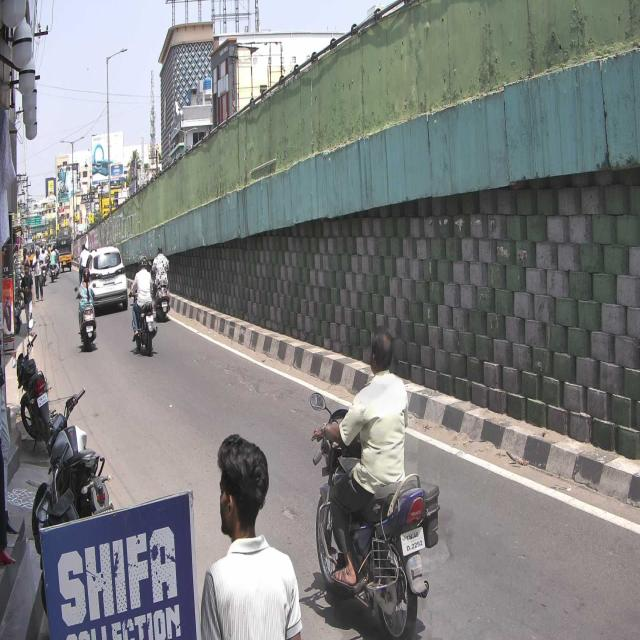single_rider: (311, 325, 439, 640)
